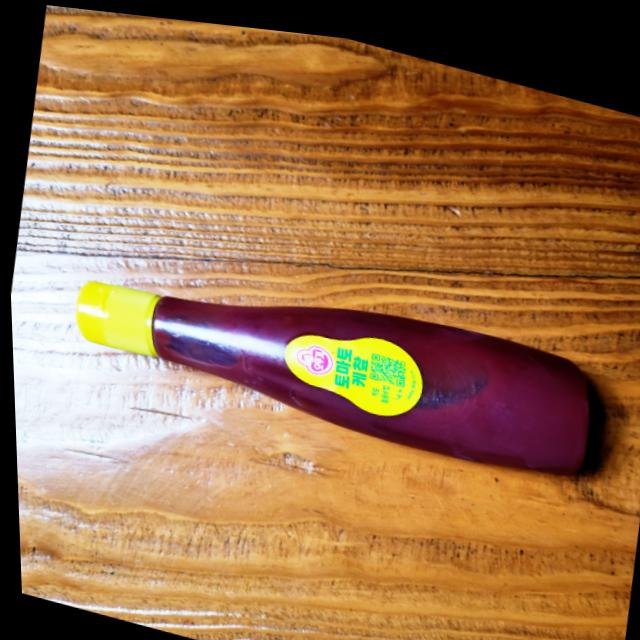ketchup: (61, 222, 618, 503)
